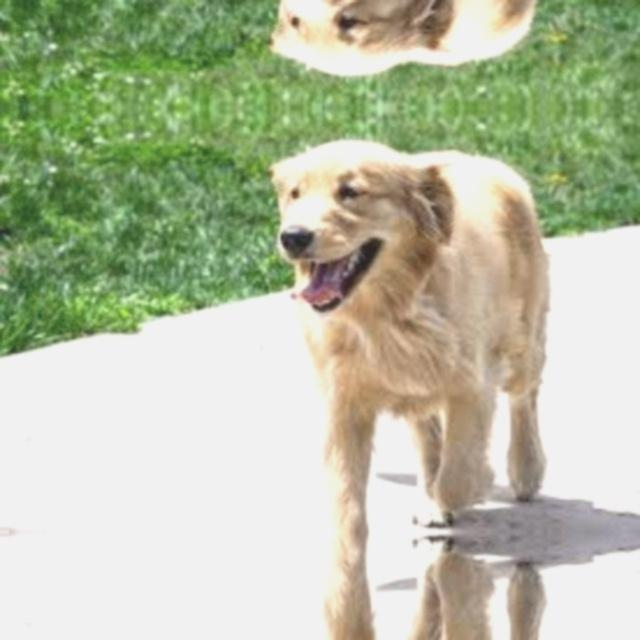dog: (267, 124, 555, 532), (267, 531, 555, 640), (267, 0, 555, 89)
